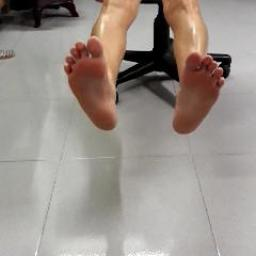Plantar View -Both Feet-: (48, 20, 239, 150)
